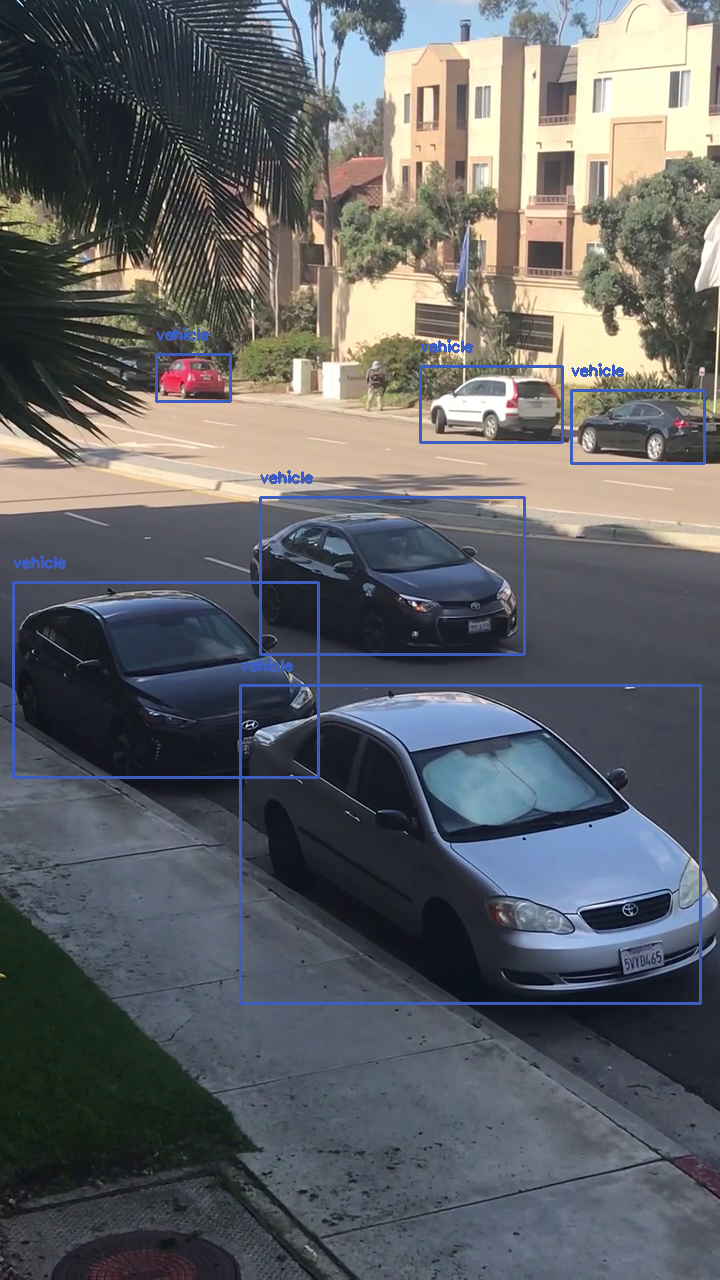vehicle: (240, 685, 700, 1003), (13, 582, 318, 777), (260, 497, 524, 654), (420, 366, 562, 442), (571, 390, 704, 463), (156, 354, 230, 401)
